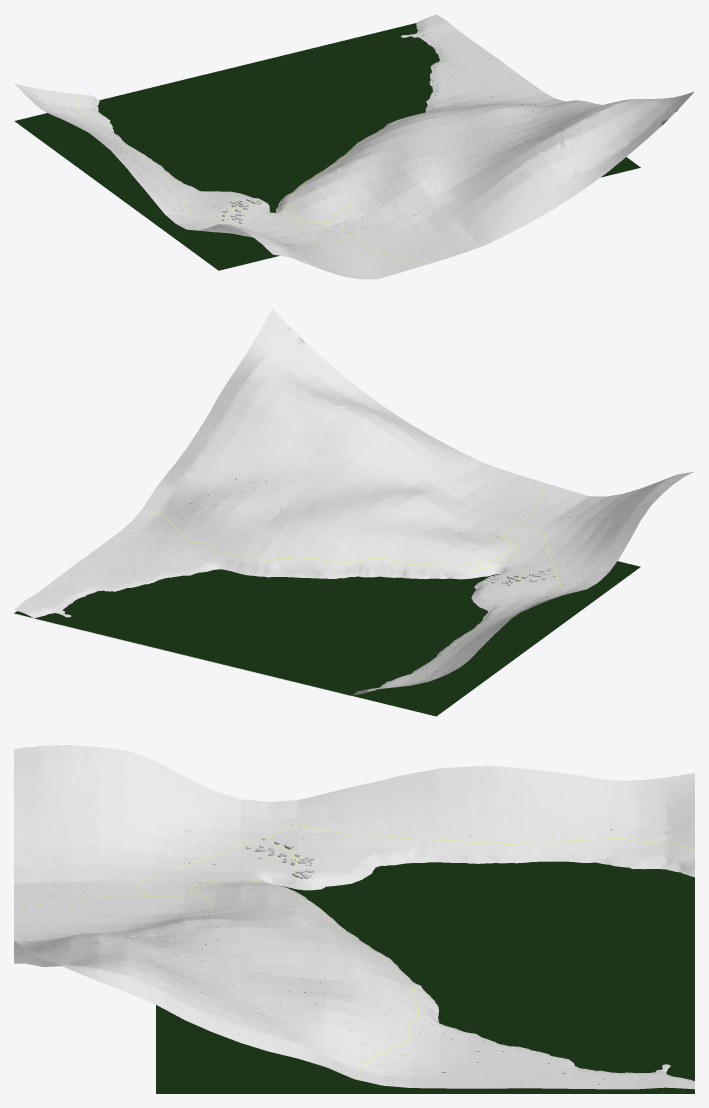
File: Msh_Sector6.glb
The picture shows the model from 3 angles, top to bottom: view 1: azimuth 30°, elevation 25°; view 2: azimuth 150°, elevation 25°; view 3: azimuth 270°, elevation 25°; orthographic projection. The views are drawn at different scales.
Visible parts, largest first — view 1: Msh_Water, Msh_Sec6_Bloque4, Msh_Sec6_Bloque7, Msh_Sec6_Bloque1, Msh_Sec6_Bloque8, Msh_Sec6_Bloque2, Msh_Sec6_Bloque5, Msh_Sec6_Bloque9, Msh_Sec6_Bloque3; view 2: Msh_Water, Msh_Sec6_Bloque7, Msh_Sec6_Bloque8, Msh_Sec6_Bloque4, Msh_Sec6_Bloque5, Msh_Sec6_Bloque1, Msh_Sec6_Bloque2, Msh_Sec6_Bloque9, Msh_Sec6_Bloque3; view 3: Msh_Water, Msh_Sec6_Bloque1, Msh_Sec6_Bloque8, Msh_Sec6_Bloque3, Msh_Sec6_Bloque2, Msh_Sec6_Bloque7, Msh_Sec6_Bloque4, Msh_Sec6_Bloque5, Msh_Sec6_Bloque9, Msh_Buildings, Msh_Road.
Boxes of the visible parts, box(x1,y1,x2,y2) form: Msh_Water: box(14, 23, 640, 270); Msh_Sec6_Bloque4: box(327, 147, 553, 268); Msh_Sec6_Bloque7: box(468, 91, 694, 208); Msh_Sec6_Bloque1: box(188, 198, 412, 279); Msh_Sec6_Bloque8: box(398, 77, 603, 146); Msh_Sec6_Bloque2: box(101, 142, 326, 229); Msh_Sec6_Bloque5: box(300, 118, 467, 198); Msh_Sec6_Bloque9: box(401, 14, 521, 103); Msh_Sec6_Bloque3: box(14, 83, 163, 168); Msh_Water: box(14, 478, 640, 716); Msh_Sec6_Bloque7: box(186, 308, 412, 489); Msh_Sec6_Bloque8: box(100, 448, 326, 575); Msh_Sec6_Bloque4: box(327, 424, 553, 541); Msh_Sec6_Bloque5: box(253, 490, 467, 579); Msh_Sec6_Bloque1: box(468, 471, 694, 572); Msh_Sec6_Bloque2: box(436, 541, 607, 634); Msh_Sec6_Bloque9: box(14, 546, 194, 648); Msh_Sec6_Bloque3: box(296, 612, 520, 695); Msh_Water: box(156, 825, 694, 1093); Msh_Sec6_Bloque1: box(14, 745, 240, 904); Msh_Sec6_Bloque8: box(241, 961, 467, 1088); Msh_Sec6_Bloque3: box(468, 766, 694, 877); Msh_Sec6_Bloque2: box(241, 766, 468, 902); Msh_Sec6_Bloque7: box(14, 933, 240, 1042); Msh_Sec6_Bloque4: box(14, 894, 240, 961); Msh_Sec6_Bloque5: box(241, 892, 435, 1002); Msh_Sec6_Bloque9: box(468, 1032, 694, 1089); Msh_Buildings: box(246, 837, 314, 879); Msh_Road: box(138, 826, 693, 1079).
Size of the model in its own units: 1511 by 398 by 1600.
